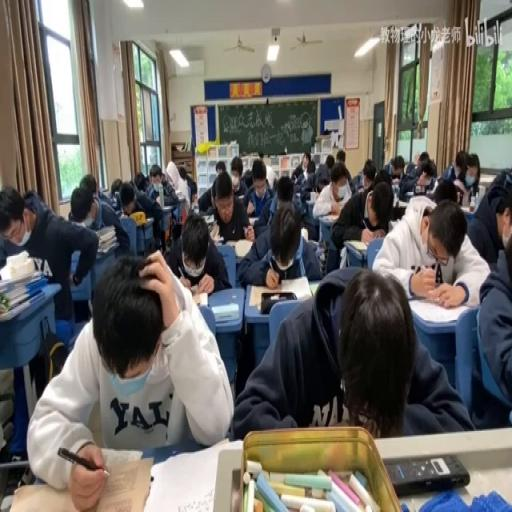calculator: (142, 441, 230, 510), (0, 262, 50, 320), (408, 293, 475, 326), (248, 274, 312, 306), (210, 300, 238, 322), (187, 287, 210, 307), (233, 236, 253, 258), (125, 212, 150, 229), (96, 224, 115, 242), (96, 240, 116, 256), (346, 239, 368, 253), (392, 203, 408, 219), (209, 222, 219, 240), (320, 213, 339, 222), (223, 240, 237, 252), (459, 202, 475, 212), (309, 282, 318, 296), (160, 202, 174, 210), (403, 189, 414, 199), (202, 213, 214, 222), (309, 189, 318, 201), (248, 214, 258, 224), (190, 202, 200, 212), (300, 226, 307, 240), (118, 210, 128, 218), (390, 178, 398, 186)
paper: (27, 249, 228, 498), (232, 260, 466, 437), (372, 195, 490, 310), (472, 210, 512, 424), (237, 199, 320, 290), (164, 208, 230, 294), (332, 175, 390, 260), (69, 179, 129, 260), (130, 174, 175, 253), (198, 161, 242, 216), (398, 152, 434, 198), (298, 158, 322, 199), (176, 164, 196, 204), (431, 179, 458, 206), (466, 154, 480, 194), (274, 175, 294, 202), (165, 159, 181, 191), (360, 160, 376, 190), (372, 168, 391, 192), (78, 174, 96, 199), (119, 188, 135, 213), (390, 155, 404, 181), (454, 154, 468, 176), (264, 162, 274, 192), (134, 171, 148, 192), (110, 176, 122, 200), (230, 156, 242, 180), (149, 164, 162, 186), (440, 165, 454, 183), (179, 196, 190, 218), (241, 168, 253, 185), (324, 154, 334, 170), (336, 150, 346, 164), (318, 182, 328, 195), (302, 155, 310, 169), (215, 160, 225, 170), (418, 165, 427, 176), (387, 162, 393, 175)
person: (386, 452, 470, 494), (228, 466, 241, 510)
